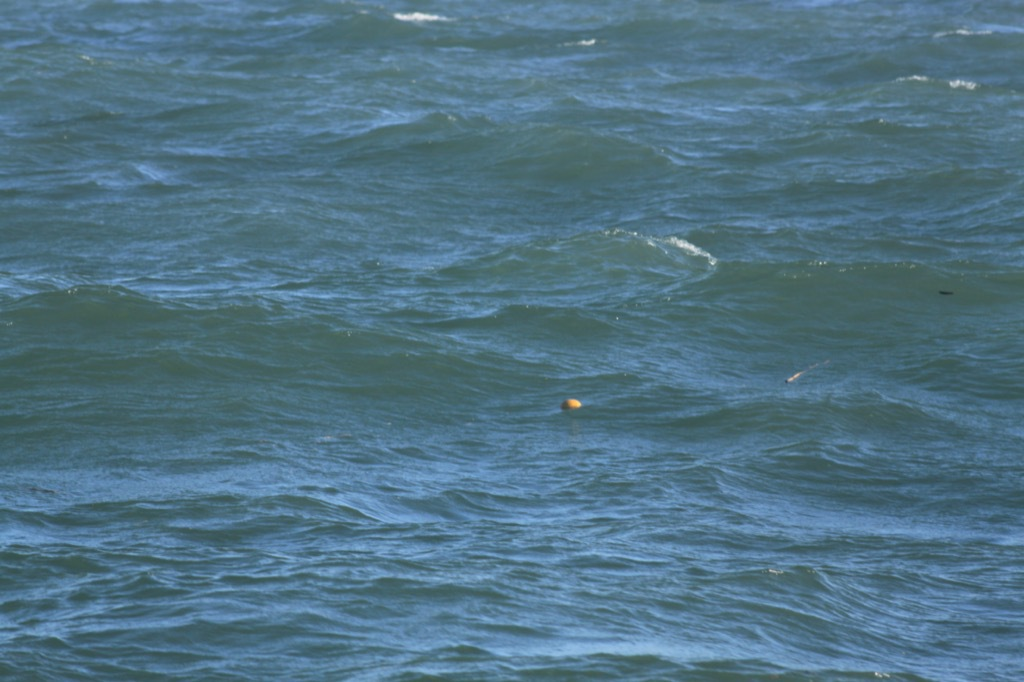organic: (778, 349, 840, 393), (927, 280, 960, 303)
plastic: (534, 385, 606, 425)
